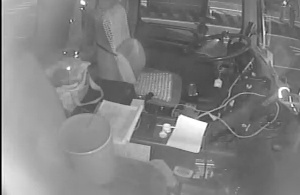paper: (165, 112, 208, 153)
